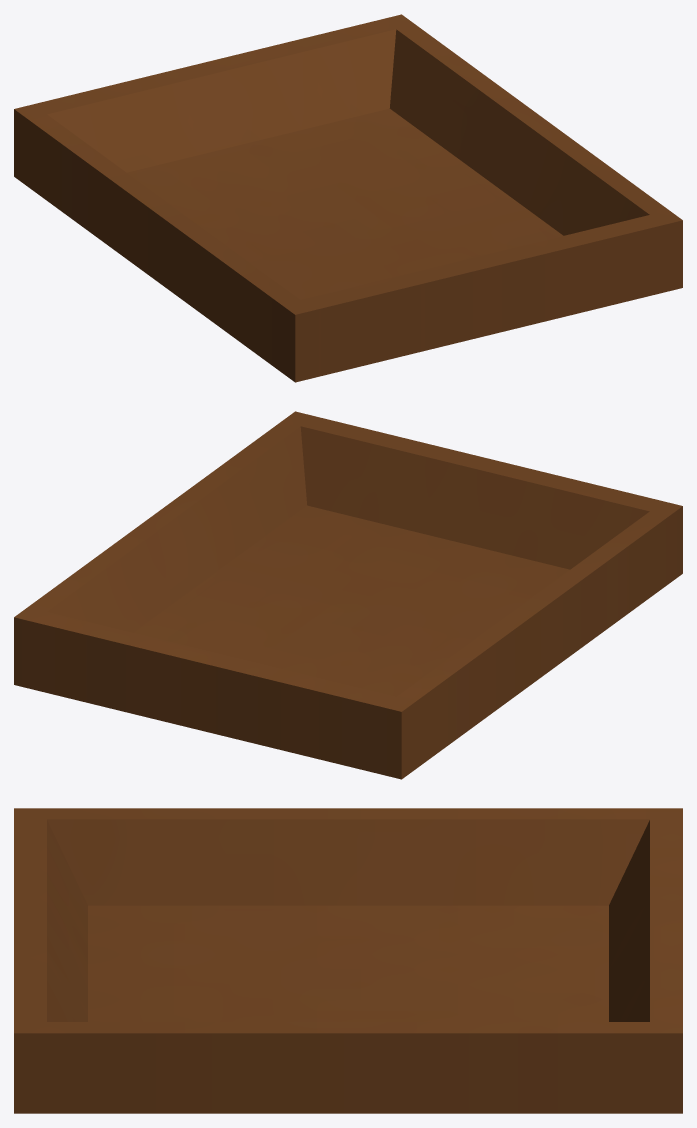
The model's file is Dispenser_basket.fbx.
The picture shows the model from 3 angles, top to bottom: view 1: azimuth 30°, elevation 25°; view 2: azimuth 150°, elevation 25°; view 3: azimuth 270°, elevation 25°; orthographic projection. The views are drawn at different scales.
Parts seen in each view (by area): view 1: Dispenser_basket; view 2: Dispenser_basket; view 3: Dispenser_basket.
Boxes of the visible parts, bbox=[...] form: Dispenser_basket: bbox=[14, 14, 682, 382]; Dispenser_basket: bbox=[14, 411, 682, 779]; Dispenser_basket: bbox=[14, 808, 682, 1113].
Size of the model in its own units: 0.7959 by 0.1327 by 1.
1 material, 1 textured.
